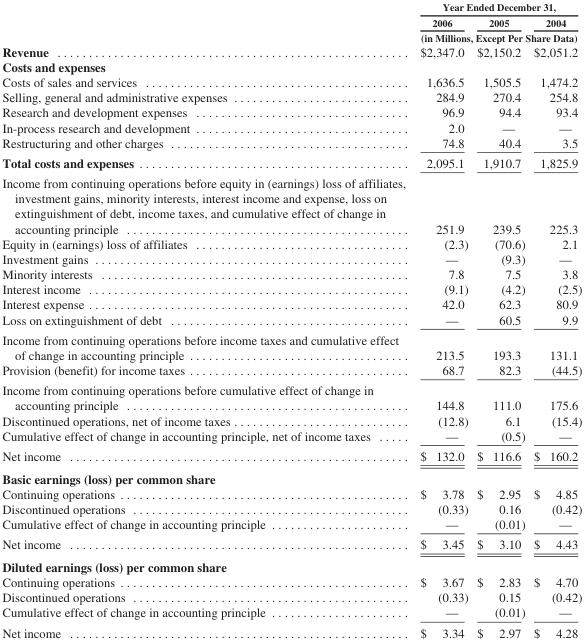table: (1, 1, 581, 639)
table column: (1, 1, 412, 639), (412, 1, 472, 639), (472, 1, 528, 639), (528, 1, 581, 639)
table column header: (1, 1, 581, 43)
table projected row header: (1, 466, 581, 485), (1, 555, 581, 574), (1, 58, 581, 74)
table row: (1, 172, 581, 235), (1, 329, 581, 362), (1, 379, 581, 412), (1, 533, 581, 555), (1, 445, 581, 466), (1, 152, 581, 172), (1, 466, 581, 485), (1, 555, 581, 574), (1, 134, 581, 152), (1, 311, 581, 329), (1, 427, 581, 445), (1, 604, 581, 622), (1, 362, 581, 379), (1, 516, 581, 533), (1, 622, 581, 639), (1, 58, 581, 74), (1, 235, 581, 251), (1, 485, 581, 501), (1, 14, 581, 29), (1, 43, 581, 58), (1, 74, 581, 89), (1, 89, 581, 104), (1, 104, 581, 119), (1, 119, 581, 134), (1, 251, 581, 266), (1, 266, 581, 281), (1, 281, 581, 296), (1, 296, 581, 311), (1, 412, 581, 427), (1, 501, 581, 516), (1, 574, 581, 589), (1, 589, 581, 604), (1, 29, 581, 43), (1, 1, 581, 14)
table spanning cell: (412, 29, 581, 43), (412, 1, 581, 14)
